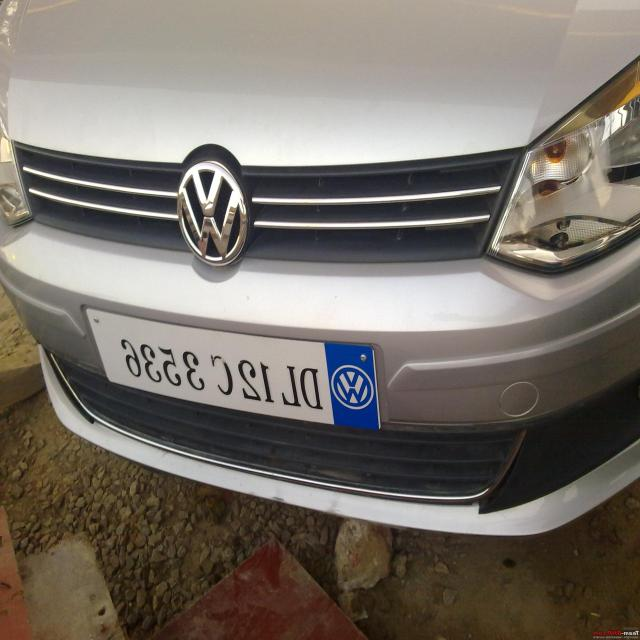number-plate: (98, 310, 384, 442)
